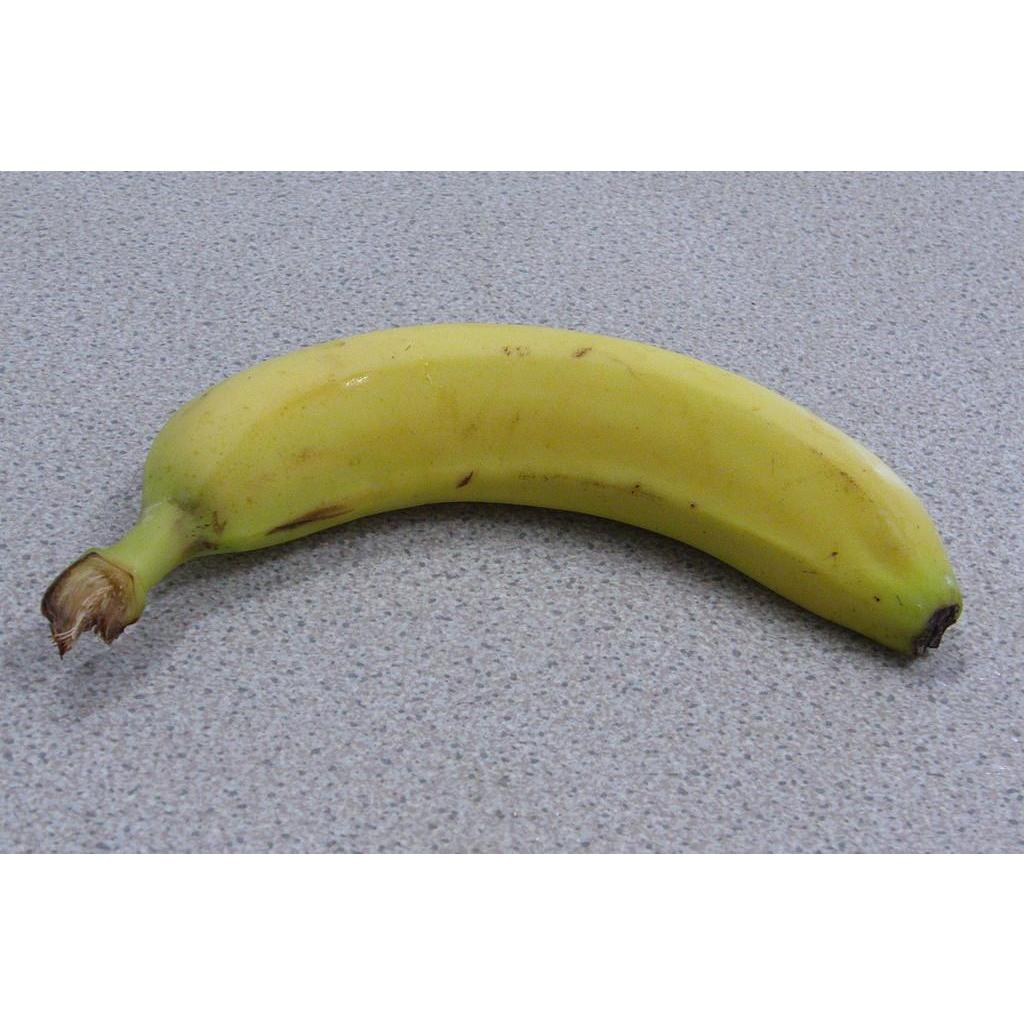banana: (39, 323, 965, 660)
